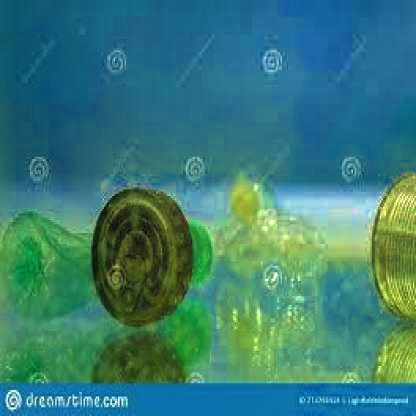can: (82, 185, 206, 327), (365, 165, 416, 339)
pbottle: (6, 207, 214, 305), (224, 176, 329, 290)
